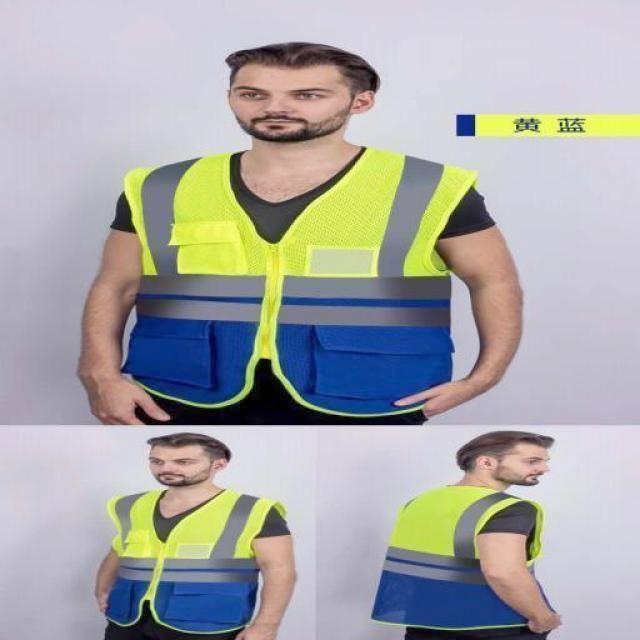vest: (136, 162, 449, 412), (393, 486, 546, 620), (118, 491, 263, 625)
